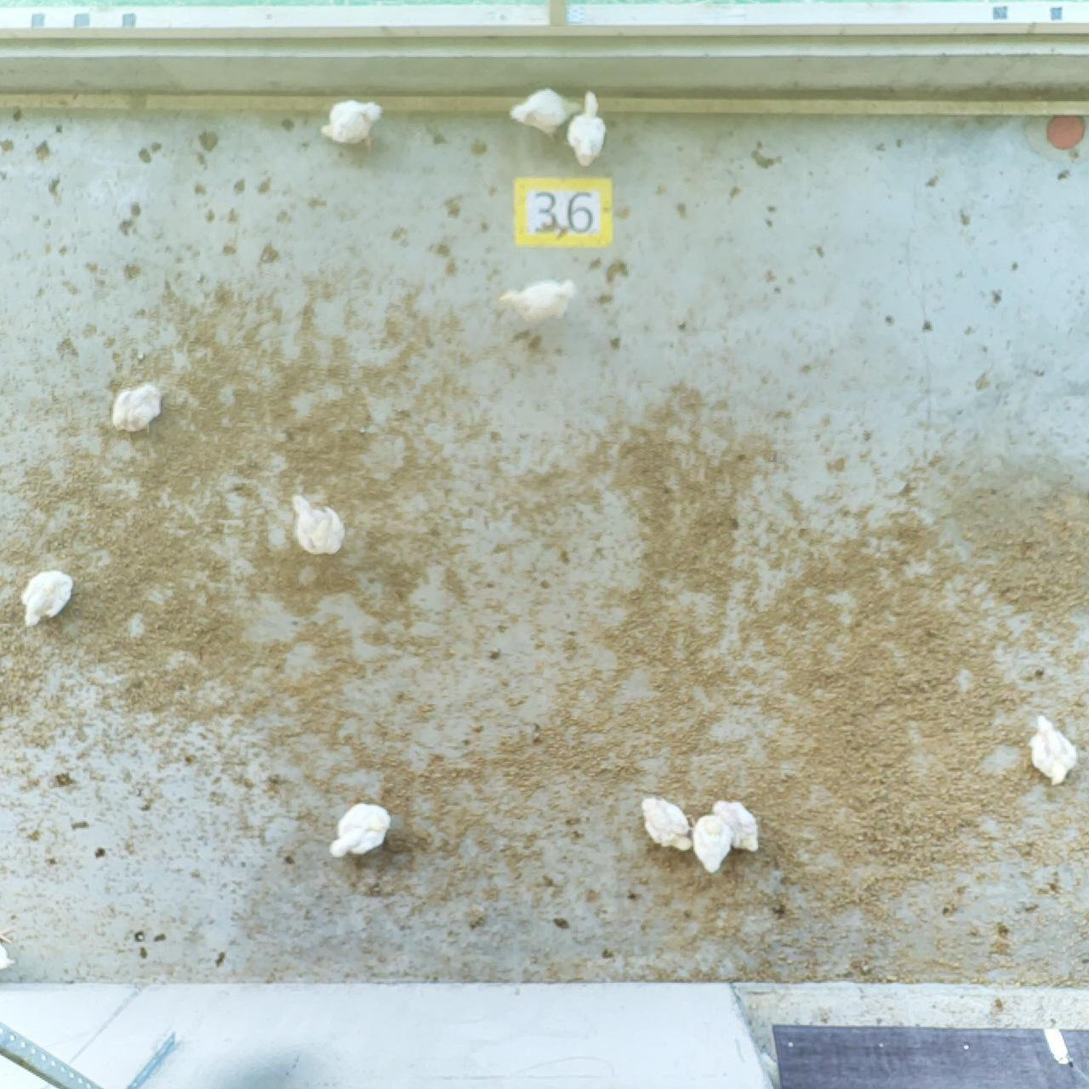chicken: (492, 271, 579, 345), (282, 486, 351, 561), (1024, 708, 1084, 794), (326, 796, 400, 863), (629, 785, 696, 859), (14, 563, 79, 630), (317, 94, 388, 154), (506, 82, 583, 136), (564, 87, 610, 170), (108, 376, 165, 440), (708, 795, 764, 856), (690, 812, 739, 876)
